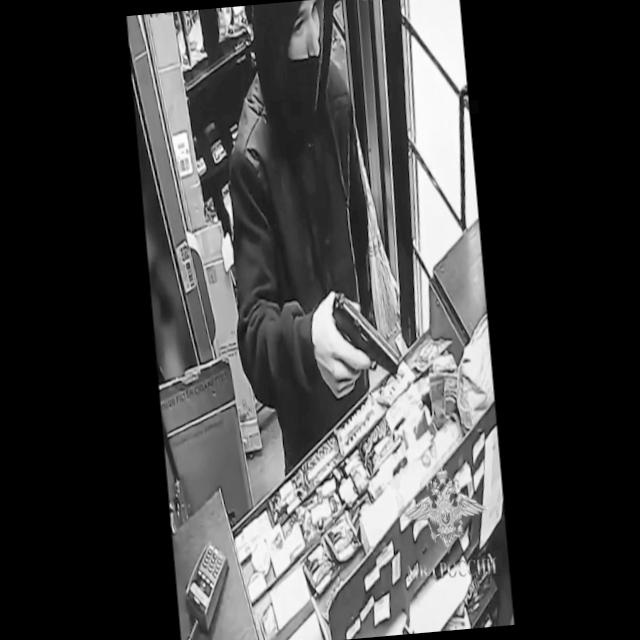gun: (312, 276, 404, 400)
person with a gun: (212, 0, 407, 459)
